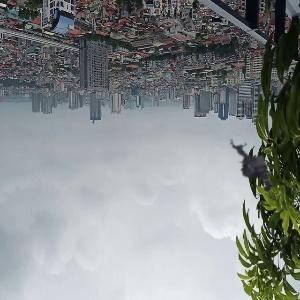drone: (219, 128, 300, 210)
